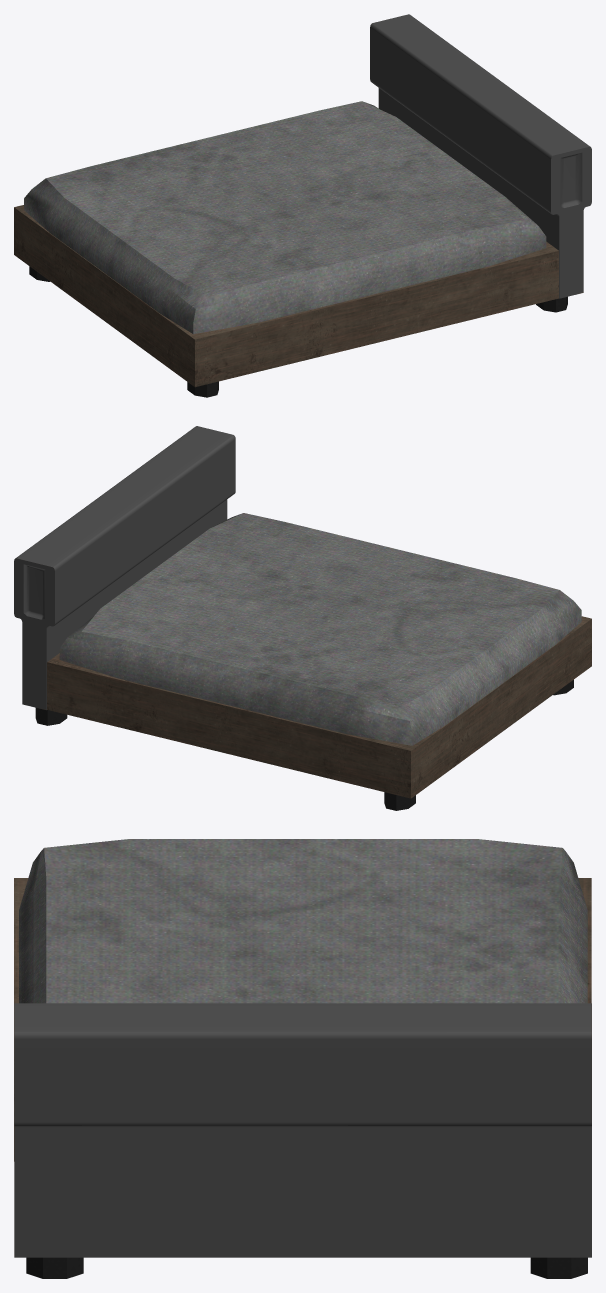
The model's file is Master Bed.fbx.
3 views of the same model, one above another, from view 1: azimuth 30°, elevation 25°; view 2: azimuth 150°, elevation 25°; view 3: azimuth 270°, elevation 25° (orthographic). The views are drawn at different scales.
Parts seen in each view (by area): view 1: Bed1; view 2: Bed1; view 3: Bed1.
Boxes of the visible parts, box(x1,y1,x2,y2) form: Bed1: box(14, 14, 591, 397); Bed1: box(14, 426, 591, 810); Bed1: box(14, 839, 591, 1278).
Bounding box in the file's own units: 302 × 117 × 239.
